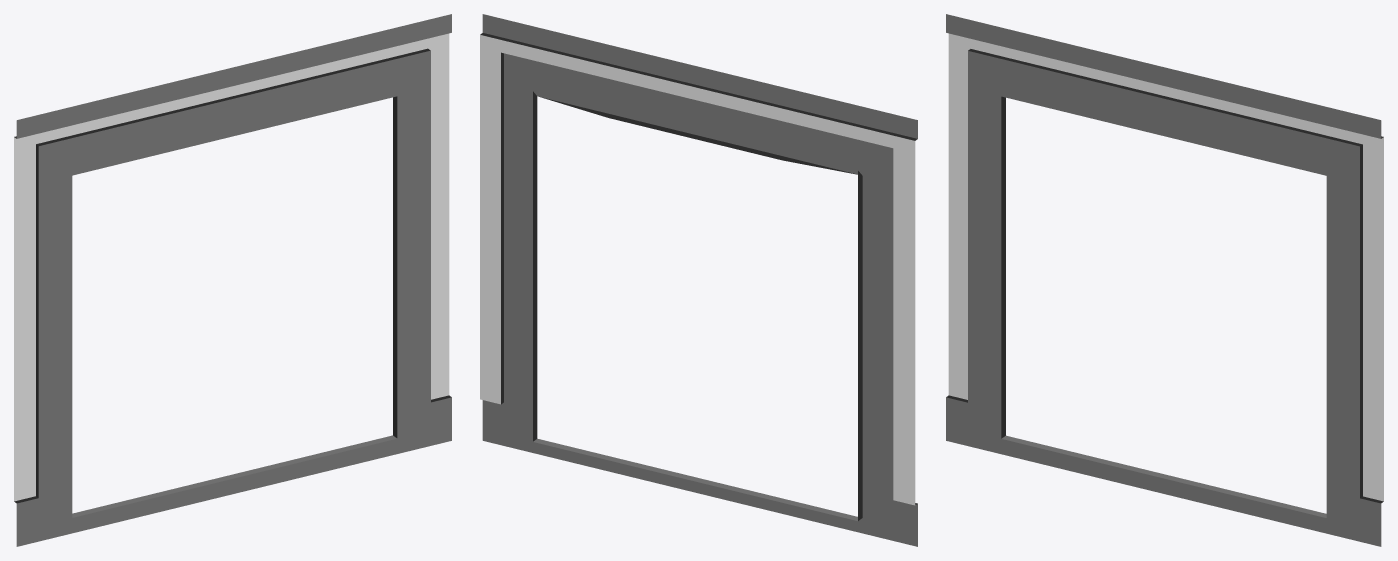
The model's file is WallDoor1.glb.
3 views of the same model, side by side, from view 1: azimuth 30°, elevation 25°; view 2: azimuth 150°, elevation 25°; view 3: azimuth 330°, elevation 25° (orthographic).
Visible parts, largest first — view 1: SI_Env_Wall_Door_Largel_01; view 2: SI_Env_Wall_Door_Largel_01; view 3: SI_Env_Wall_Door_Largel_01.
Part boxes in pixels (x1=…): SI_Env_Wall_Door_Largel_01: x1=14, y1=14, x2=451, y2=546; SI_Env_Wall_Door_Largel_01: x1=480, y1=14, x2=917, y2=546; SI_Env_Wall_Door_Largel_01: x1=946, y1=14, x2=1383, y2=546.
Bounding box in the file's own units: 0.05 × 0.0469 × 0.000885.
1 material, 1 textured.
